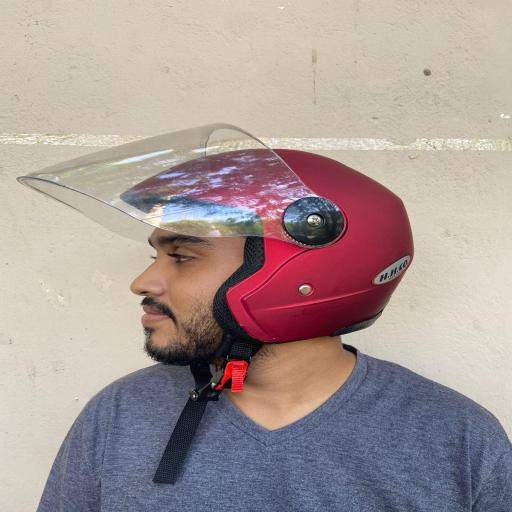with helmet: (14, 121, 414, 344)
